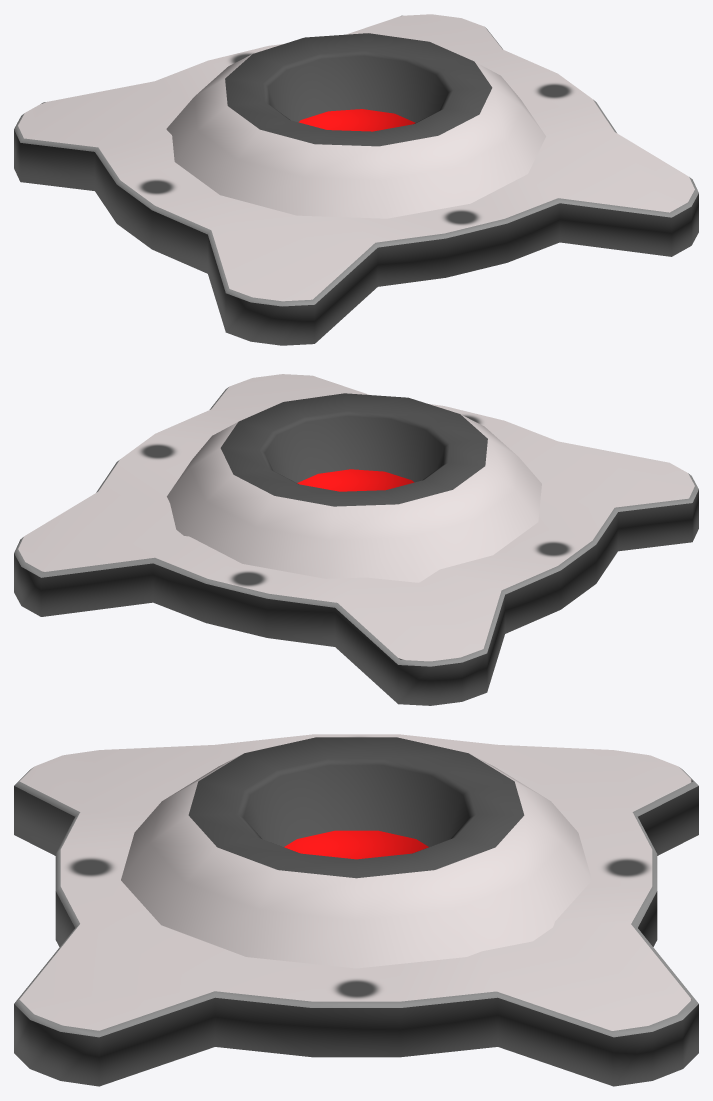
File: MEC0110036.fbx
3 views of the same model, one above another, from view 1: azimuth 30°, elevation 25°; view 2: azimuth 150°, elevation 25°; view 3: azimuth 270°, elevation 25° (orthographic). The views are drawn at different scales.
Parts seen in each view (by area): view 1: smMEC0110036; view 2: smMEC0110036; view 3: smMEC0110036.
Part boxes in pixels (<box>): smMEC0110036: <box>14,14,698,345</box>; smMEC0110036: <box>14,374,698,705</box>; smMEC0110036: <box>14,734,698,1086</box>.
Bounding box in the file's own units: 280 × 63.13 × 284.
1 material, 1 textured.
